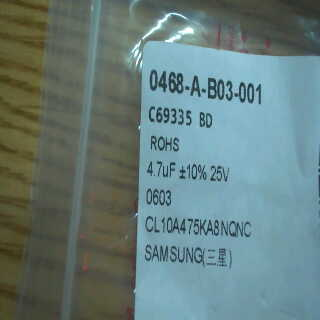4.7uF: (145, 159, 180, 182)
